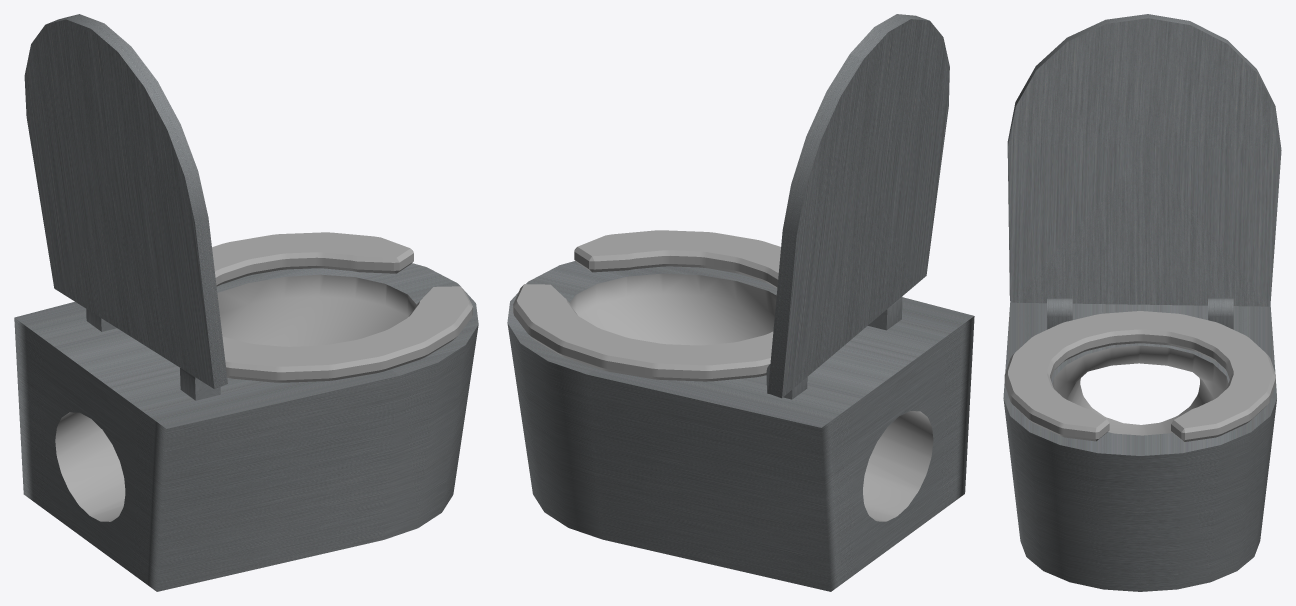
3 renders of one model, left to right at view 1: azimuth 30°, elevation 25°; view 2: azimuth 150°, elevation 25°; view 3: azimuth 270°, elevation 25°, orthographic. The views are drawn at different scales.
Parts seen in each view (by area): view 1: polySurface1, pCylinder3, pPipe1, pCylinder5; view 2: polySurface1, pCylinder3, pPipe1; view 3: pCylinder3, polySurface1, pPipe1, pCylinder7, pCylinder5.
Part boxes in pixels (x1,y1,x2,y2): polySurface1: (14,263,478,591); pCylinder3: (24,14,227,389); pPipe1: (212,232,472,382); pCylinder5: (180,368,220,400); polySurface1: (507,261,974,591); pCylinder3: (768,14,949,398); pPipe1: (513,230,780,381); pCylinder3: (1007,14,1281,306); polySurface1: (1003,302,1276,591); pPipe1: (1004,311,1275,441); pCylinder7: (1208,298,1233,329); pCylinder5: (1047,298,1072,329).
Bounding box in the file's own units: 52.96 × 70.41 × 40.54.
Materials: 2 (1 with a texture image).
